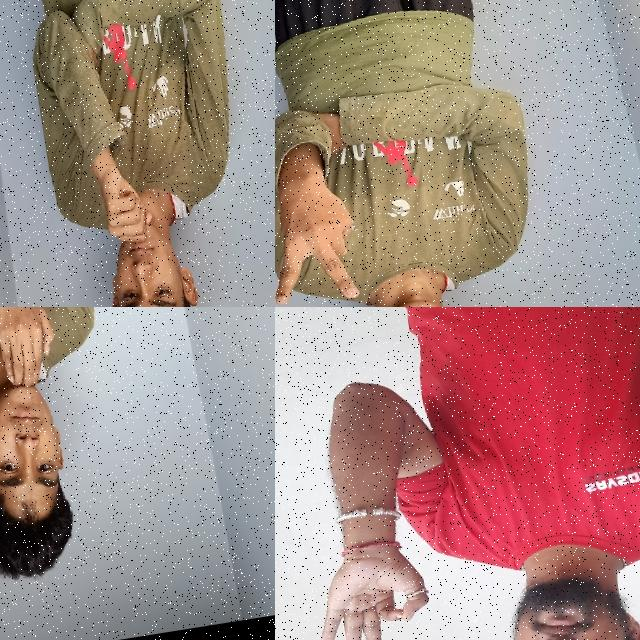Chin Flick: (0, 307, 109, 599)
Fist Mouth: (65, 129, 233, 307)
Okay: (299, 525, 444, 640)
Reversed Victory: (275, 160, 375, 307)
